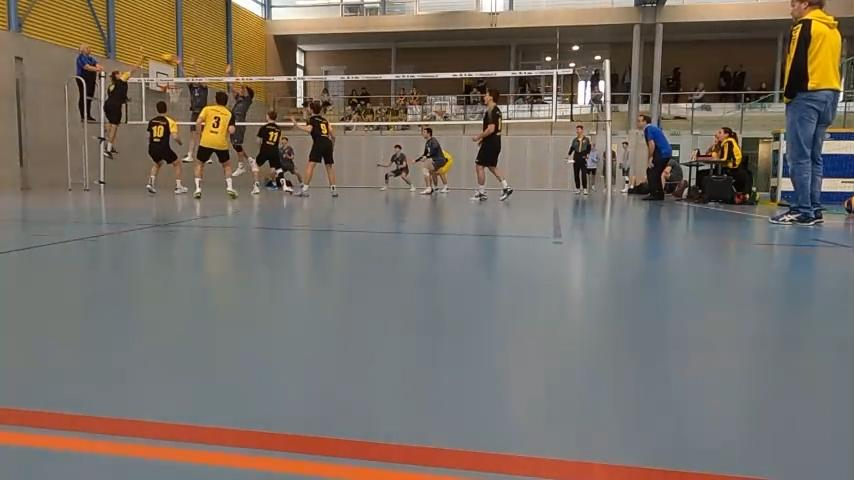attacco: (95, 53, 148, 166)
muro: (223, 63, 265, 180), (177, 57, 213, 169)
